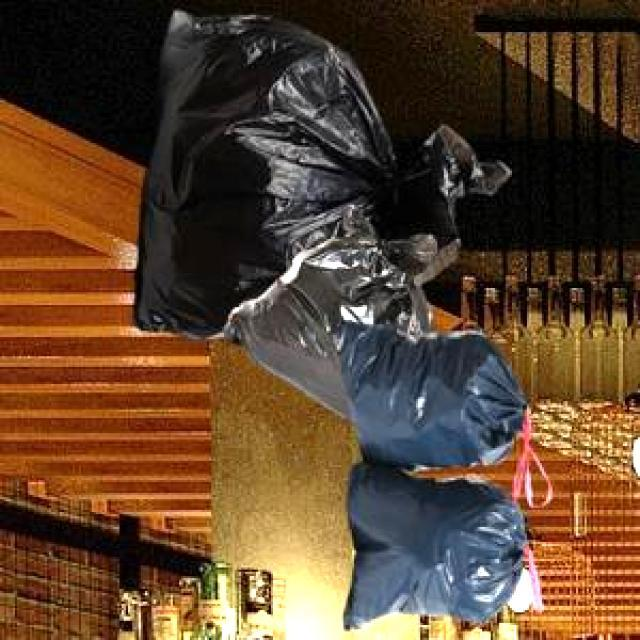Garbage_Bag: (131, 7, 509, 336), (334, 314, 539, 626), (220, 202, 434, 418)
